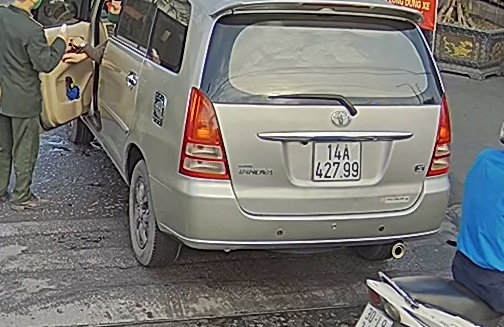vehicle plate: (309, 139, 364, 183)
